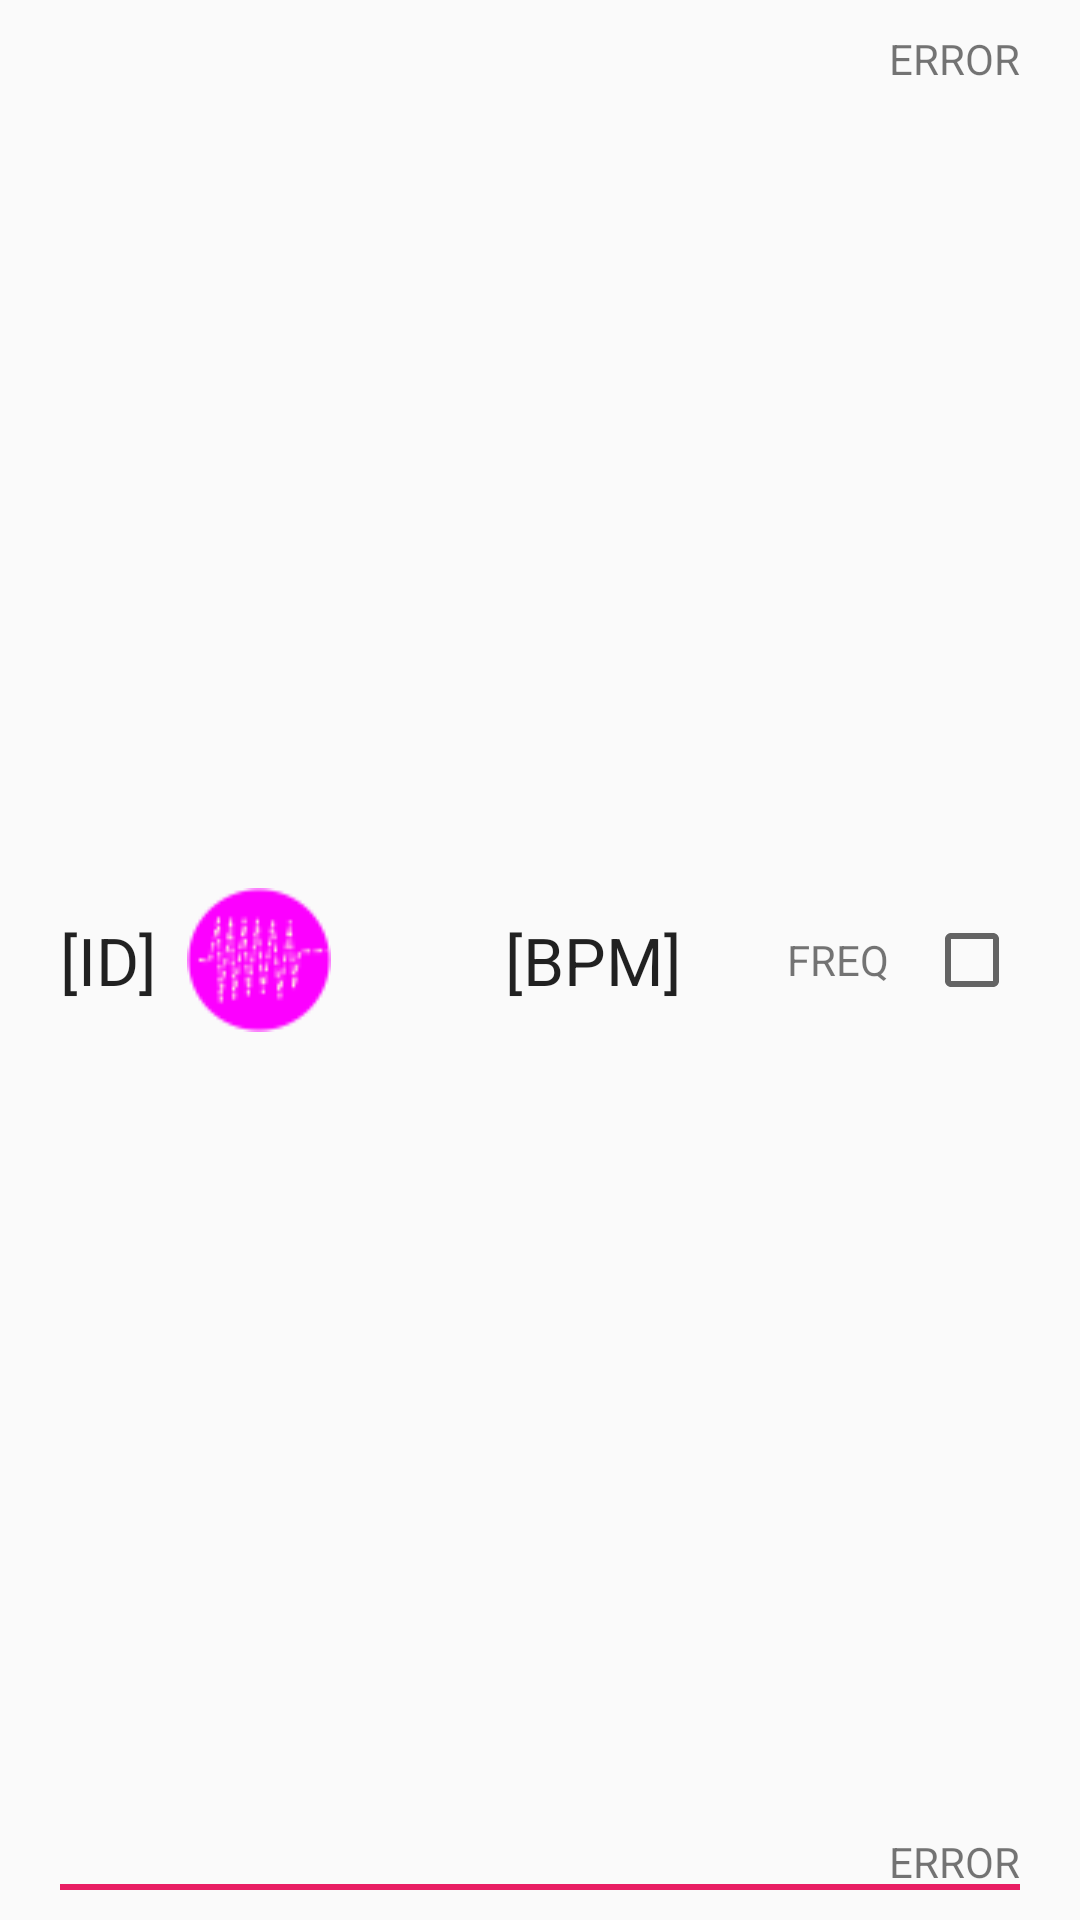

Where icons sit on this 1080 × 1920 app screen, as (x1, y1, x2, y2):
timeseries: (187, 888, 331, 1032)
